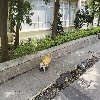fire: (41, 53, 53, 66)
